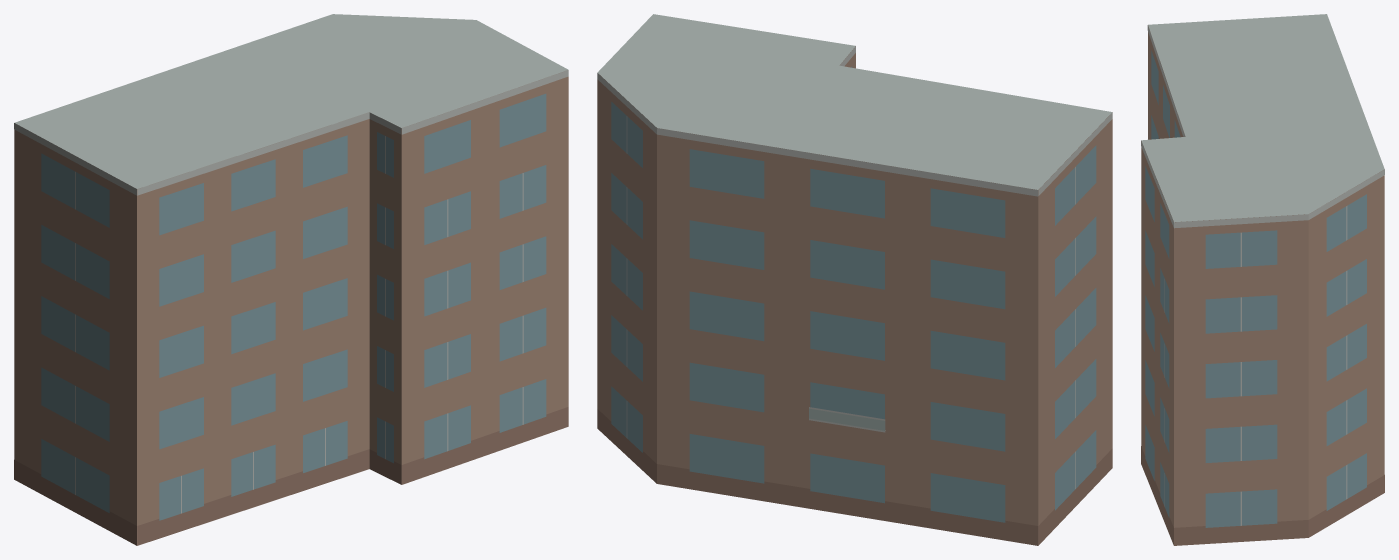
Rendered from survey-upis-32709198.glb.
3 renders of one model, left to right at view 1: azimuth 30°, elevation 25°; view 2: azimuth 150°, elevation 25°; view 3: azimuth 270°, elevation 25°, orthographic. The views are drawn at different scales.
Visible parts, largest first — view 1: survey-upis-32709198.tmp; view 2: survey-upis-32709198.tmp; view 3: survey-upis-32709198.tmp.
Boxes of the visible parts, x1,y1,x2,y2 form: survey-upis-32709198.tmp: (14,14,568,545); survey-upis-32709198.tmp: (597,14,1112,545); survey-upis-32709198.tmp: (1141,14,1384,545).
Size of the model in its own units: 18.08 by 13.1 by 8.94.
